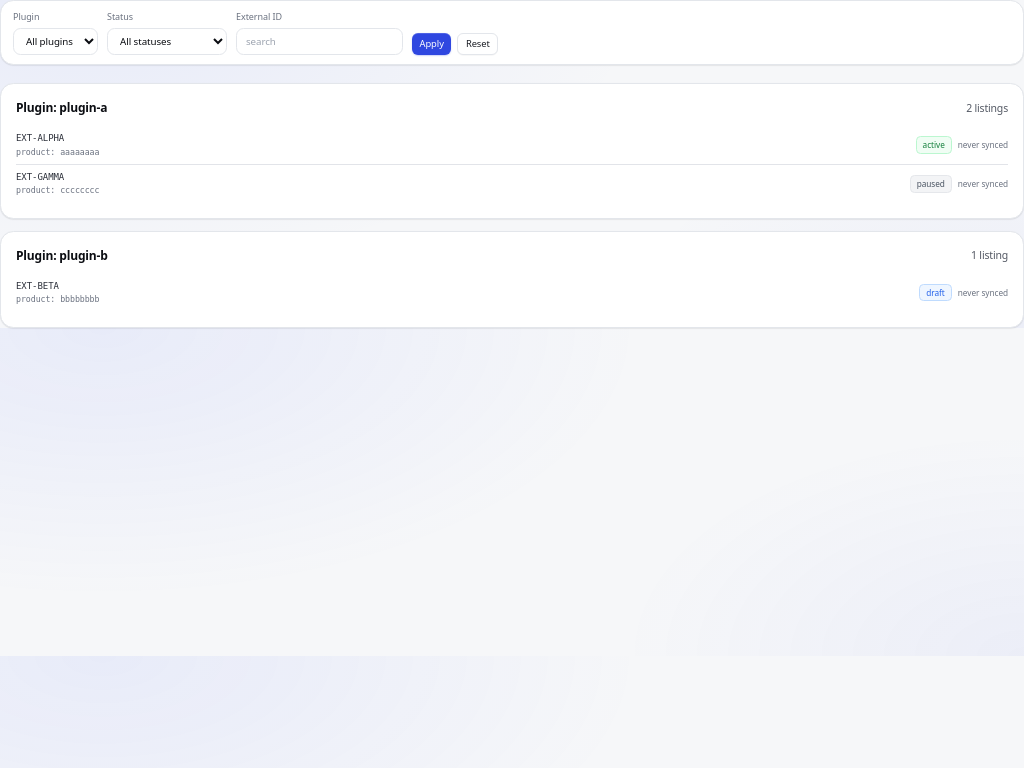
ListingsView › shows empty state when search matches nothing
The image size is (1024, 768).
In the field labelled "External ID": (320, 42) [236, 28, 403, 55], type "no-such-listing"
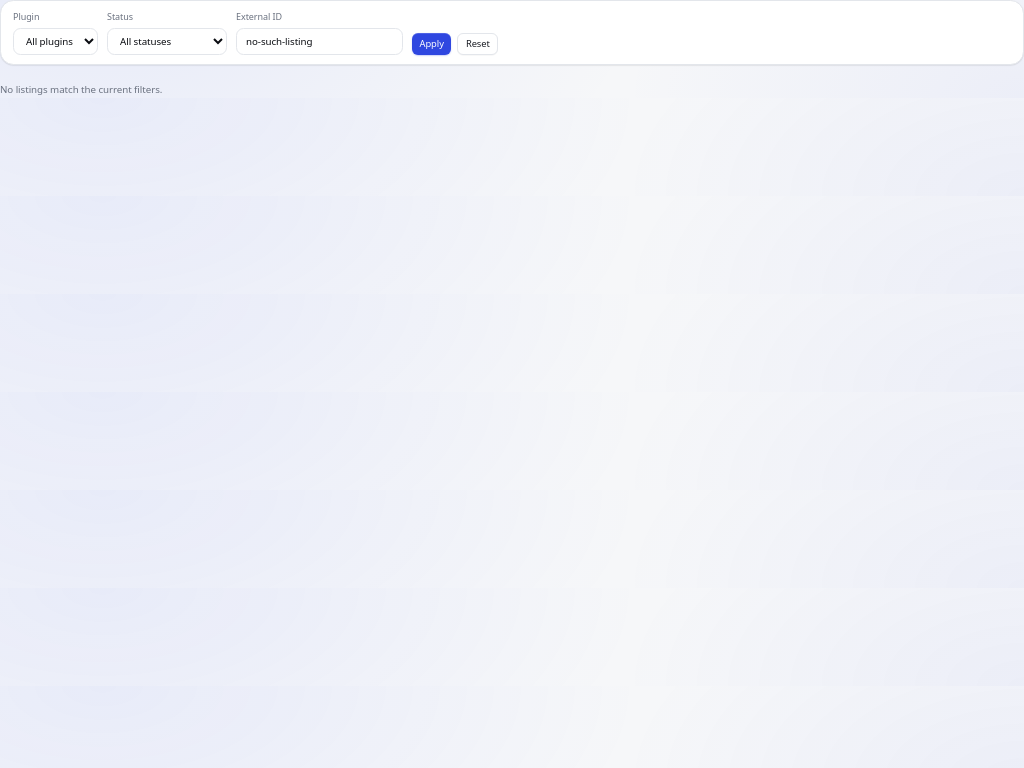
Now the text "No listings match the current filters." is shown, box [0, 83, 162, 96]
